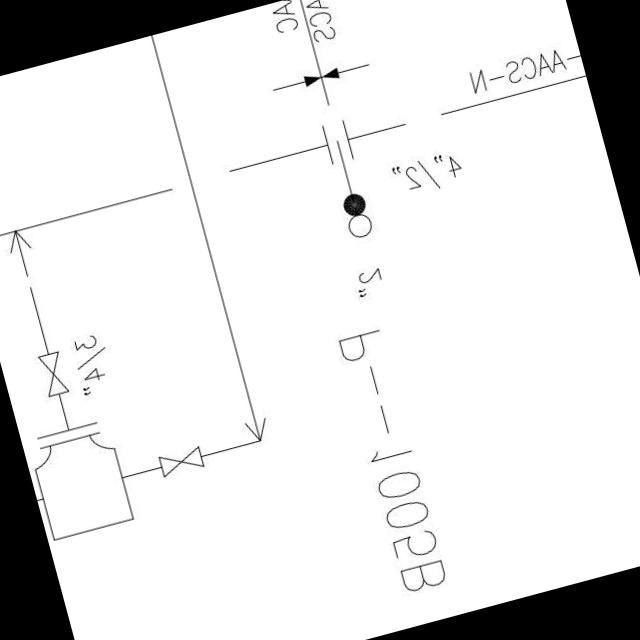M: (152, 440, 210, 480), (32, 346, 71, 401)
